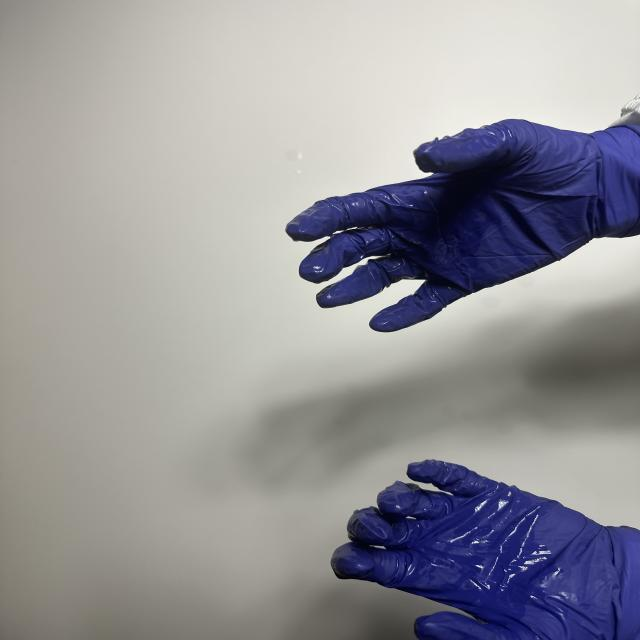gloves_contaminated: (286, 119, 640, 332), (331, 460, 640, 640)
